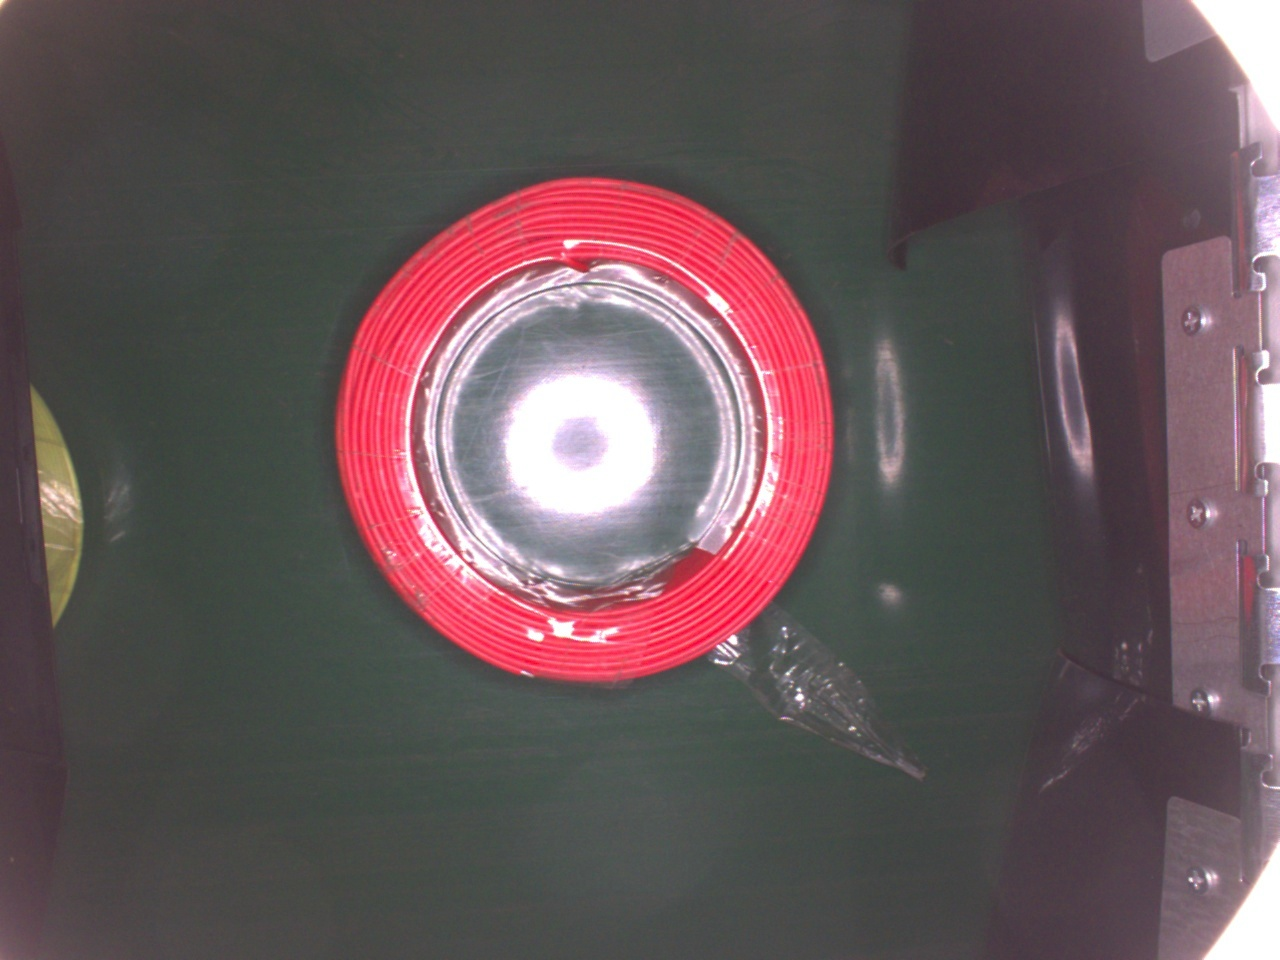red: (335, 170, 845, 682)
